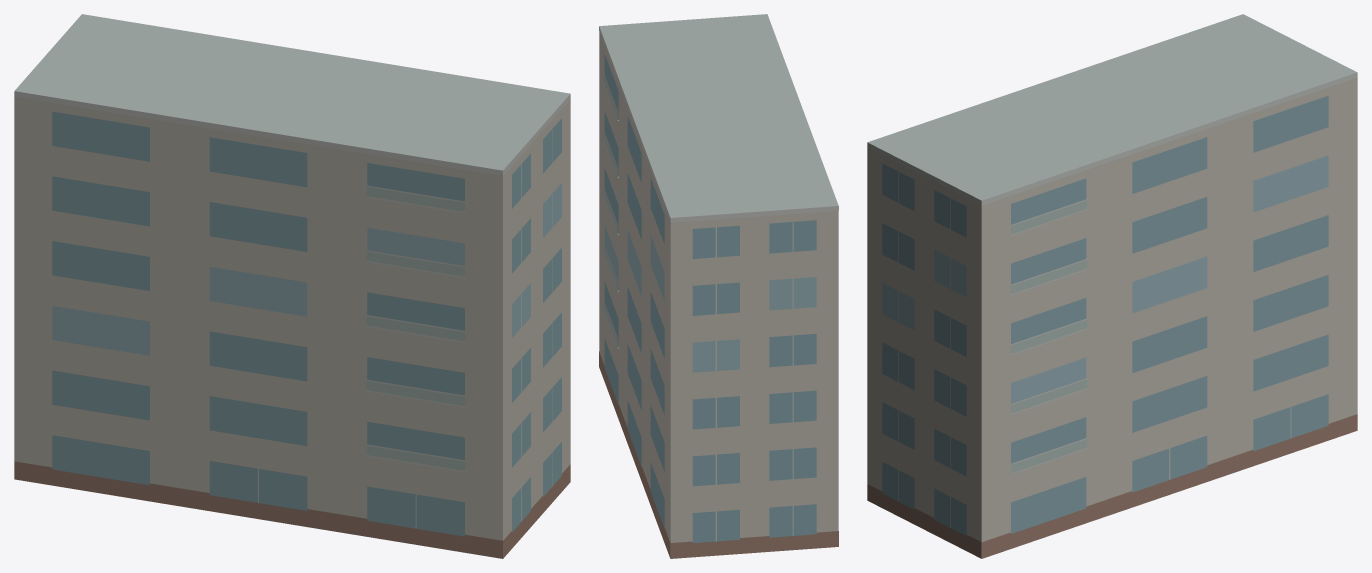
File: survey-upis-32733446.glb
The picture shows the model from 3 angles, left to right: view 1: azimuth 30°, elevation 25°; view 2: azimuth 150°, elevation 25°; view 3: azimuth 270°, elevation 25°; orthographic projection. The views are drawn at different scales.
Parts seen in each view (by area): view 1: survey-upis-32733446.tmp; view 2: survey-upis-32733446.tmp; view 3: survey-upis-32733446.tmp.
Part boxes in pixels (box(x1,y1,x2,y2)): survey-upis-32733446.tmp: box(14, 14, 570, 558); survey-upis-32733446.tmp: box(599, 14, 838, 558); survey-upis-32733446.tmp: box(867, 14, 1357, 558).
Size of the model in its own units: 19.45 by 17.4 by 21.59.
